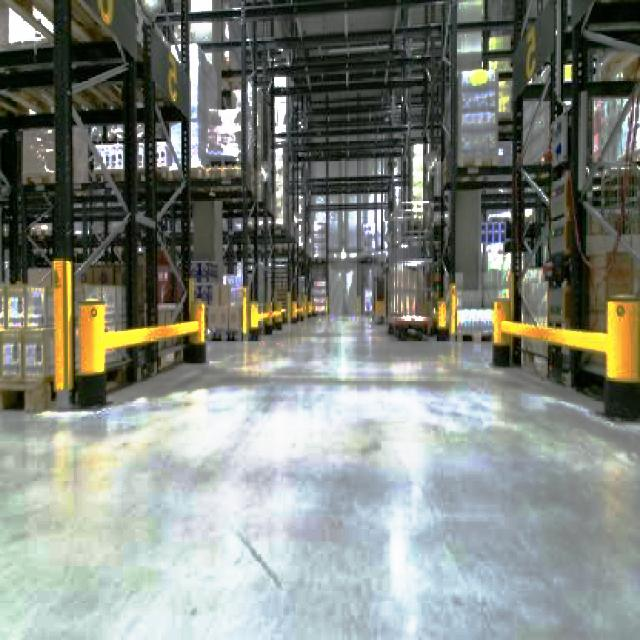ground: (0, 294, 638, 638)
pallet: (498, 0, 638, 423), (0, 262, 322, 414), (495, 291, 638, 422), (0, 280, 54, 412), (202, 282, 317, 340)
